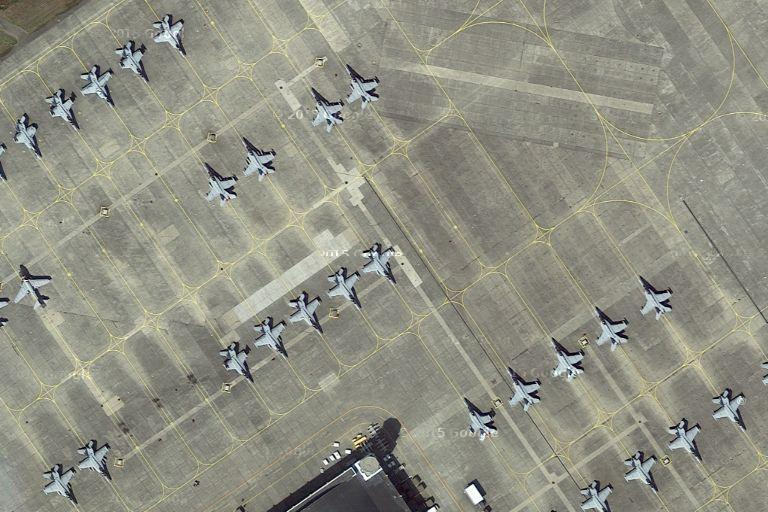F/A-18: (237, 133, 279, 188), (322, 265, 367, 316), (306, 85, 349, 138), (342, 62, 385, 114), (284, 288, 327, 339), (458, 394, 501, 445), (214, 340, 258, 389), (634, 274, 677, 324), (360, 241, 402, 292), (591, 302, 632, 354), (620, 449, 662, 499), (547, 336, 588, 387), (666, 417, 707, 468), (74, 437, 115, 487), (710, 386, 750, 437), (198, 161, 241, 208), (41, 460, 83, 508), (506, 365, 545, 415), (250, 315, 290, 362), (42, 84, 79, 132), (112, 39, 152, 83), (8, 113, 47, 158), (151, 13, 188, 59), (77, 64, 115, 108), (576, 480, 618, 512)
plane: (12, 263, 56, 317)
